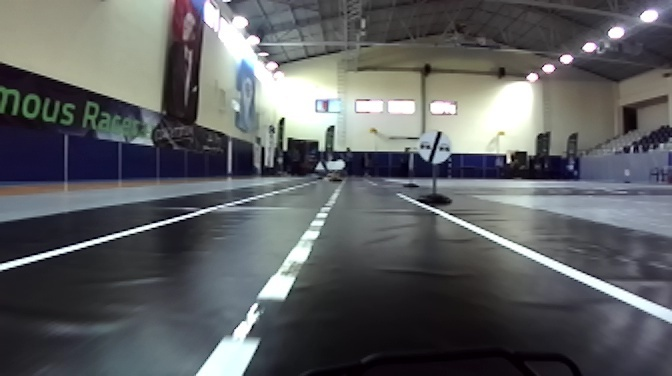sollama_serbest: (417, 129, 452, 166)
